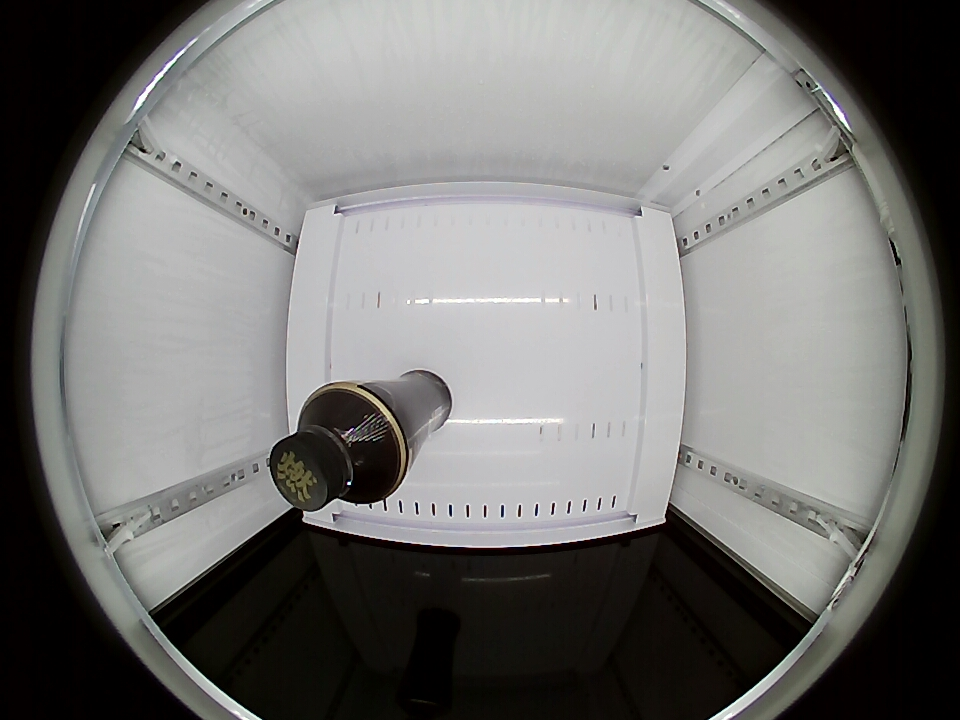rancha-1: (268, 385, 407, 511)
